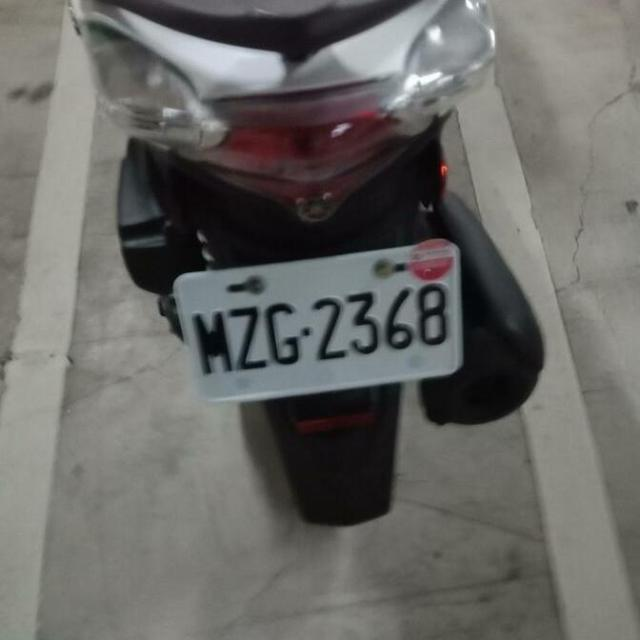W: (167, 231, 477, 414)
